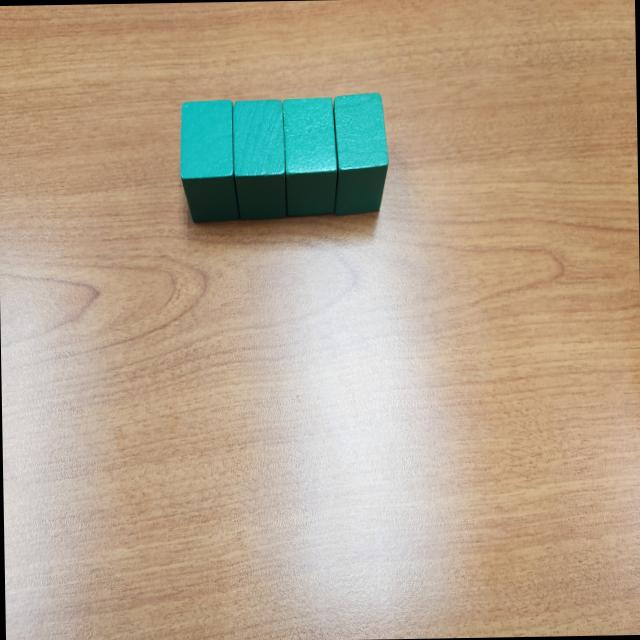green: (178, 99, 240, 224), (331, 91, 389, 216), (281, 96, 339, 219), (232, 98, 286, 220)
